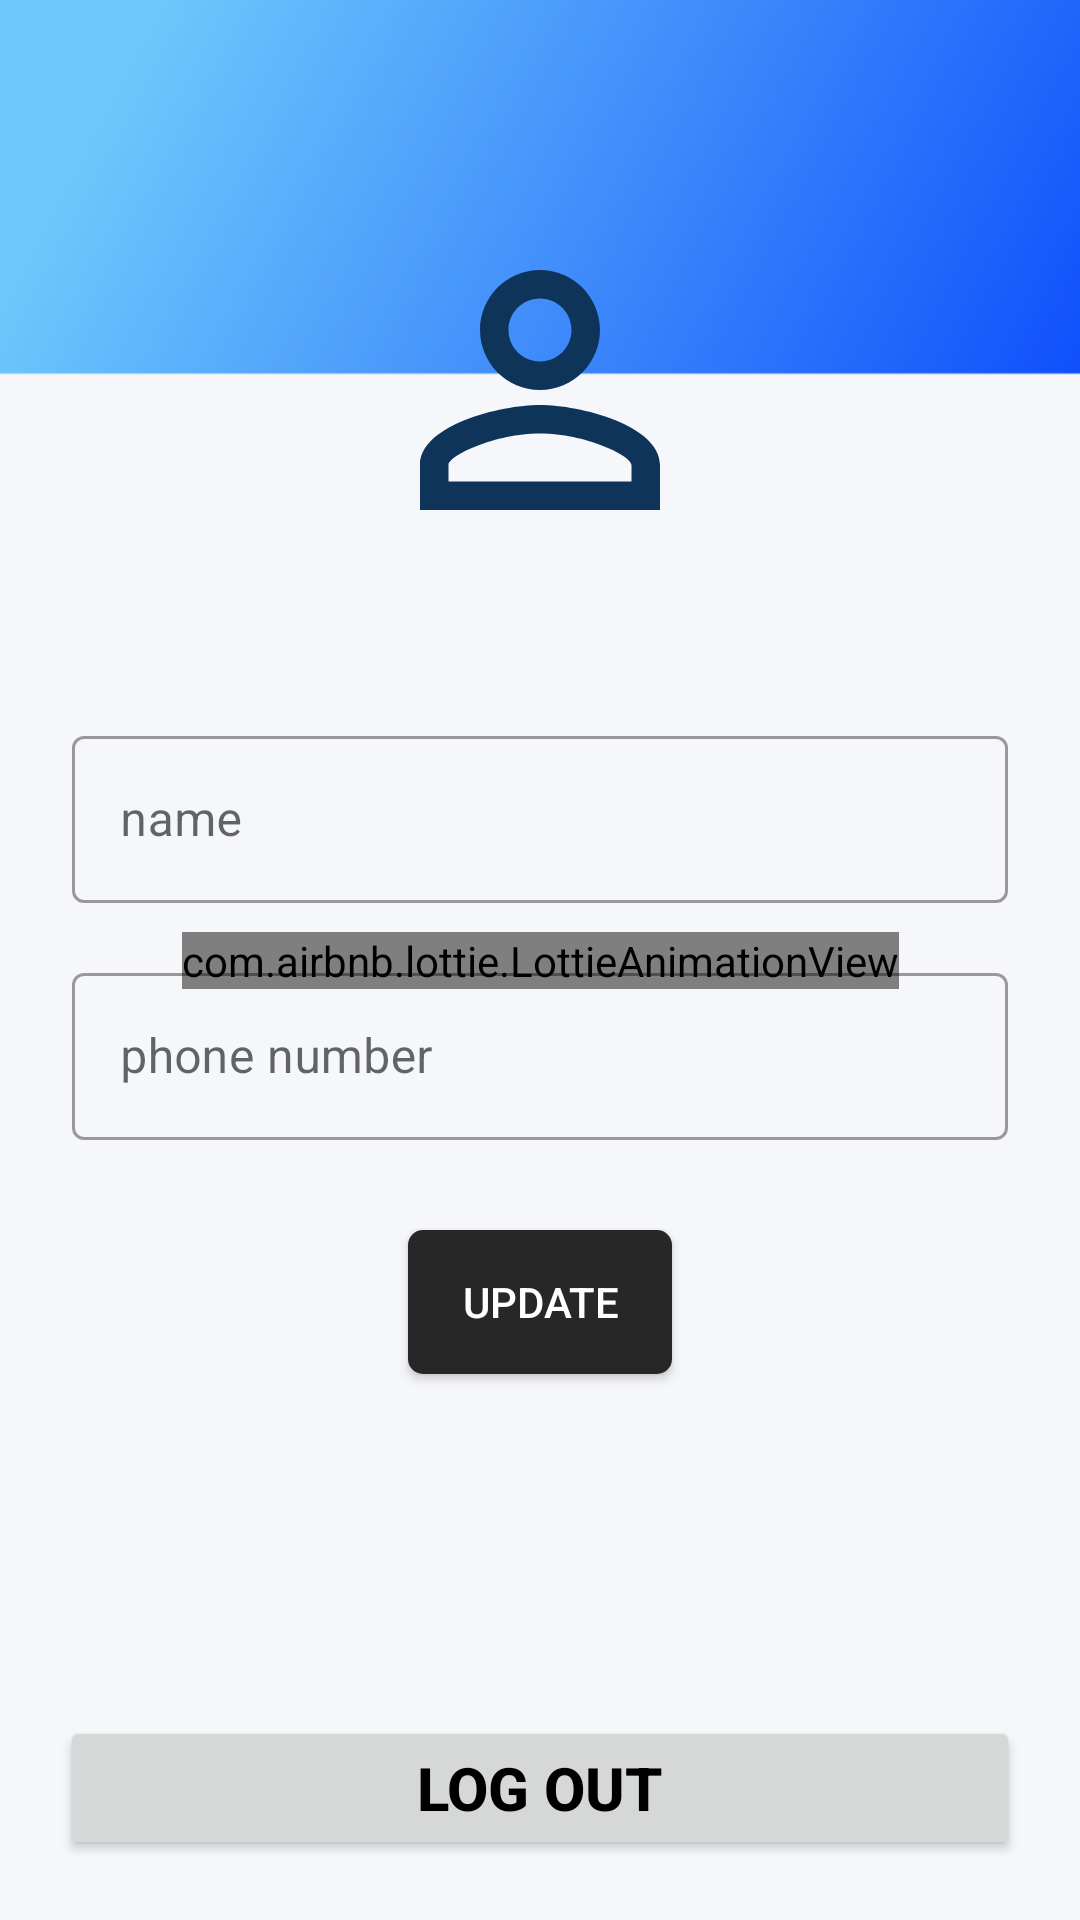

Where to tap for icons on this 1080px×1920px app screen, as [x,y]:
person: [540,390]
